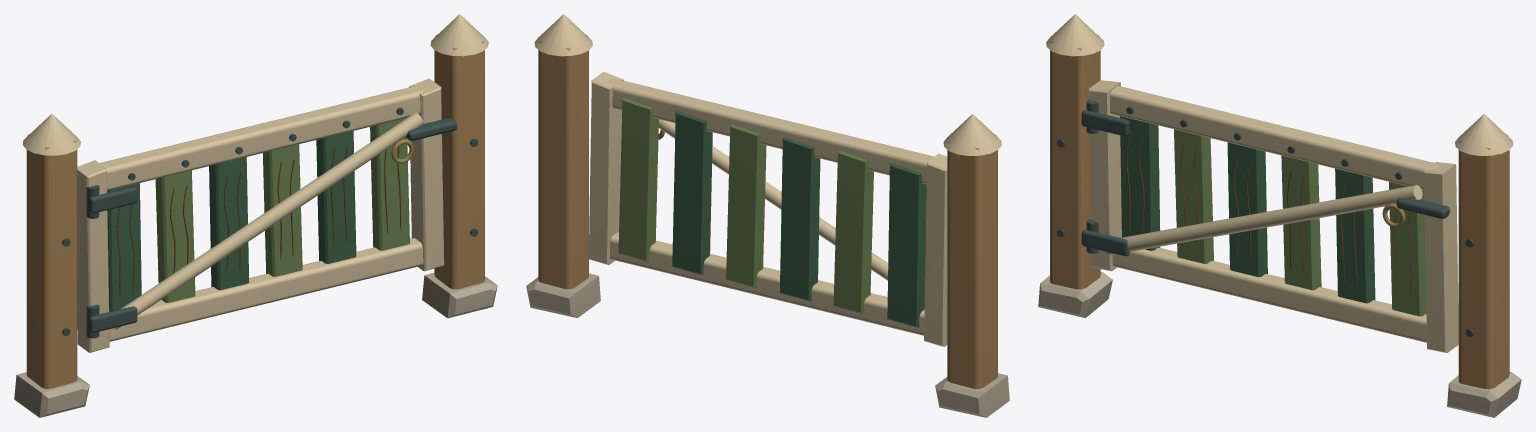
The model's file is porton.glb.
3 views of the same model, side by side, from view 1: azimuth 30°, elevation 25°; view 2: azimuth 150°, elevation 25°; view 3: azimuth 330°, elevation 25° (orthographic).
Parts seen in each view (by area): view 1: pt_hoja, porton; view 2: pt_hoja, porton; view 3: pt_hoja, porton.
Part boxes in pixels (left/top/right/bottom): pt_hoja: left=77, top=78, right=457, bottom=352; porton: left=14, top=14, right=497, bottom=417; pt_hoja: left=588, top=71, right=947, bottom=346; porton: left=526, top=14, right=1009, bottom=417; pt_hoja: left=1081, top=80, right=1458, bottom=352; porton: left=1038, top=14, right=1521, bottom=417.
Size of the model in its own units: 2.26 by 1.36 by 0.2953.
